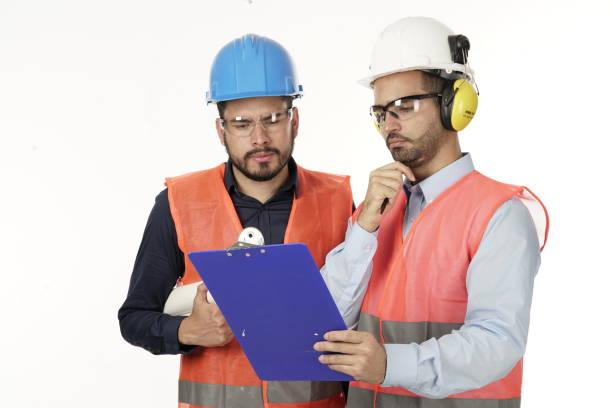goggle: (364, 84, 459, 135), (208, 101, 302, 139)
helmet: (354, 2, 492, 97), (194, 25, 309, 114)
vest: (155, 157, 365, 408), (352, 175, 551, 408)
